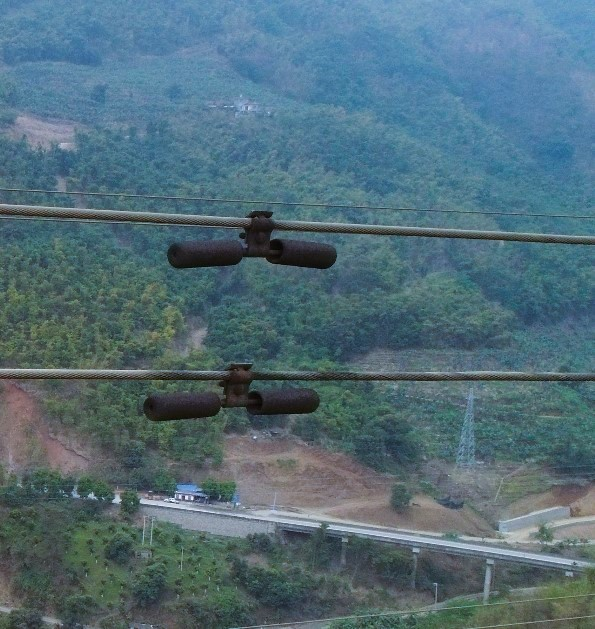Shockproof hammer: (157, 201, 345, 279), (139, 352, 327, 430)
